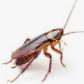cockroach: (12, 24, 64, 66)
